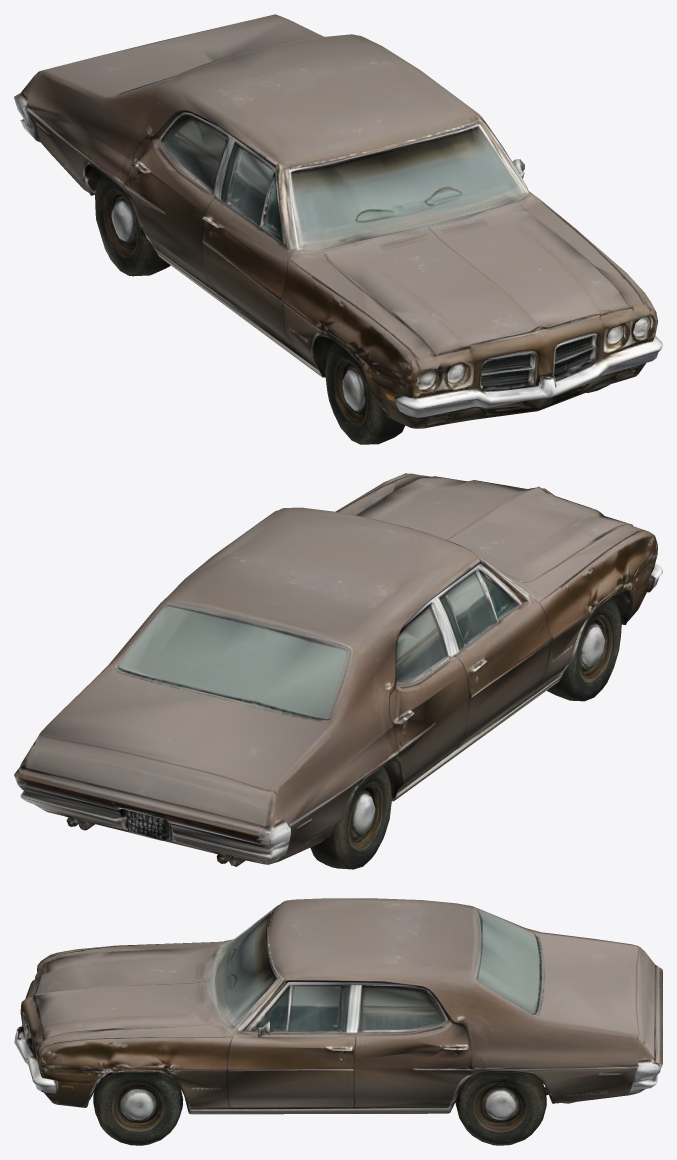
The model's file is lemans.glb.
The picture shows the model from 3 angles, top to bottom: view 1: azimuth 30°, elevation 25°; view 2: azimuth 150°, elevation 25°; view 3: azimuth 270°, elevation 25°; orthographic projection. The views are drawn at different scales.
Parts seen in each view (by area): view 1: node_0; view 2: node_0; view 3: node_0.
Part boxes in pixels (left/top/right/bottom): node_0: left=14, top=14, right=662, bottom=444; node_0: left=14, top=473, right=662, bottom=869; node_0: left=14, top=898, right=662, bottom=1145.
Size of the model in its own units: 0.4407 by 0.3315 by 1.14.
1 material, 1 textured.
